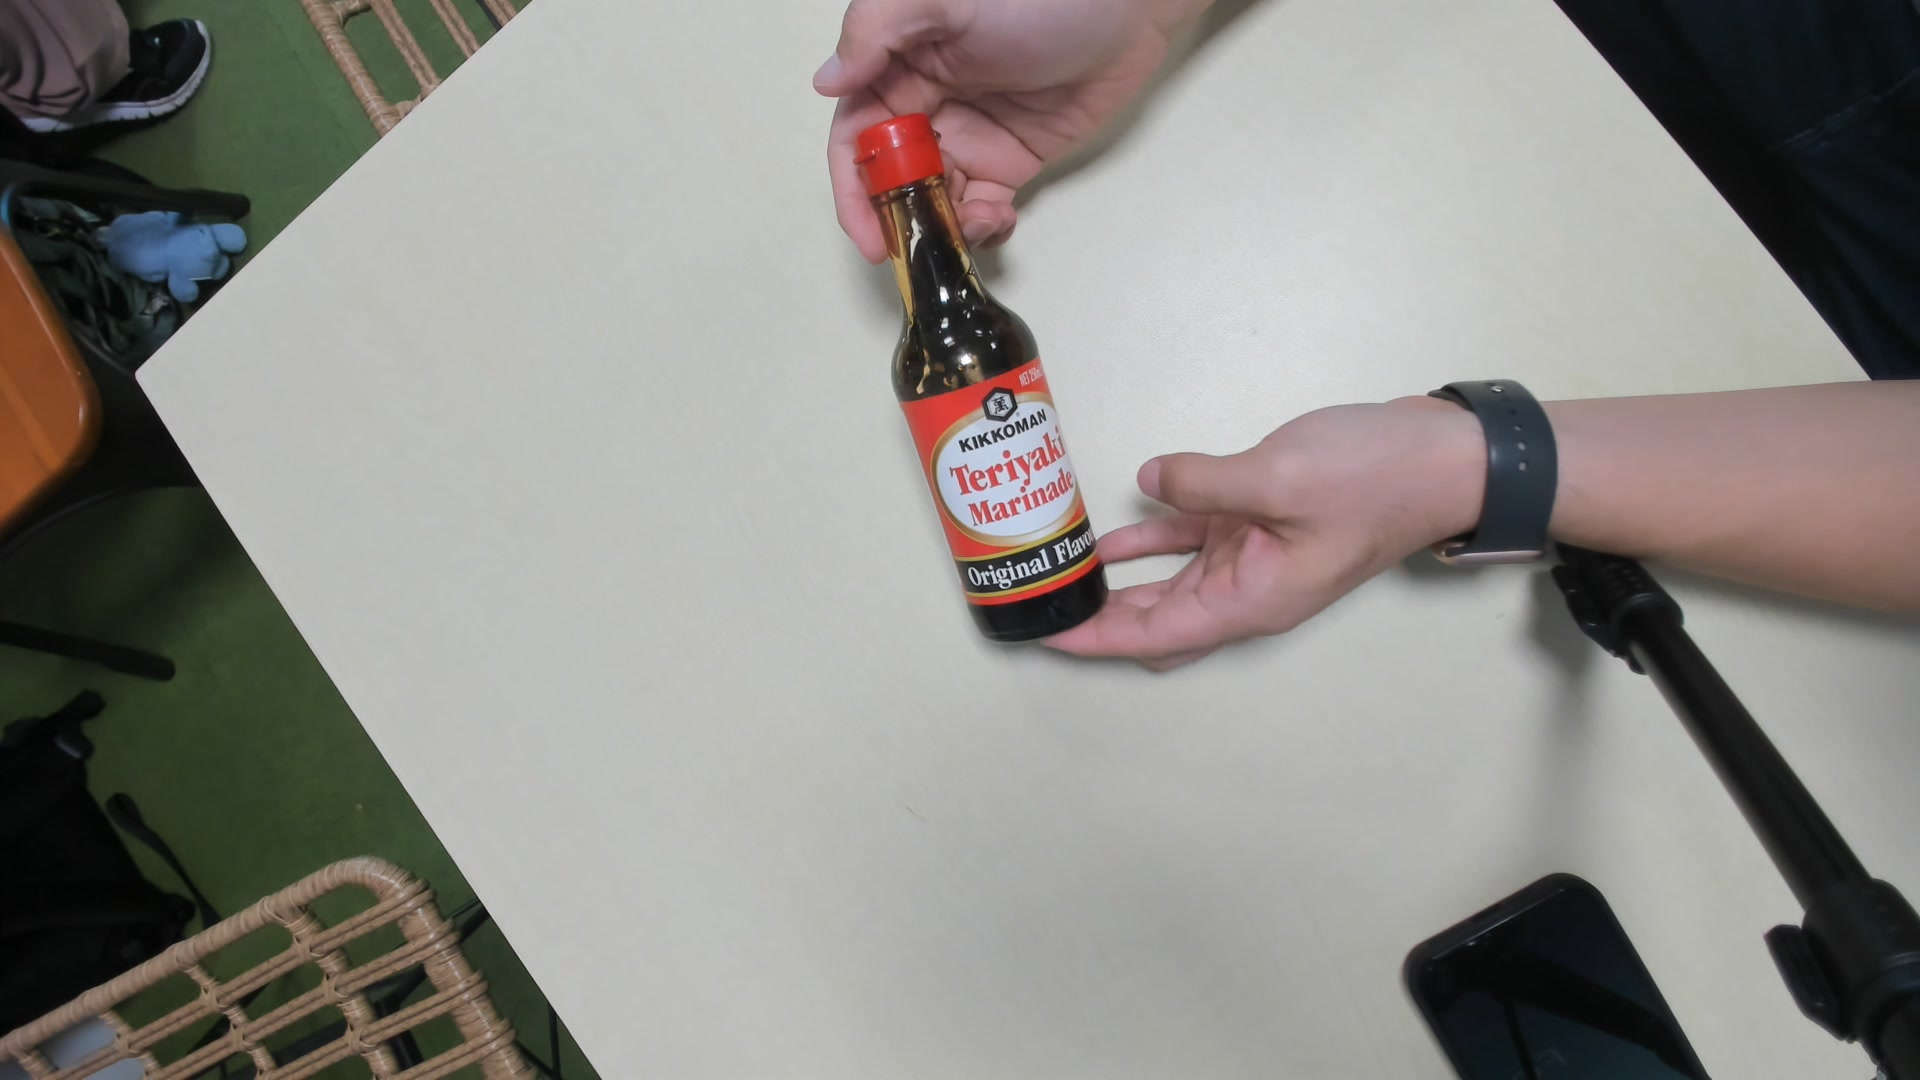OtherSauceDressing_200-299g_NonHalal_NonHealthy: (858, 113, 1109, 650)
